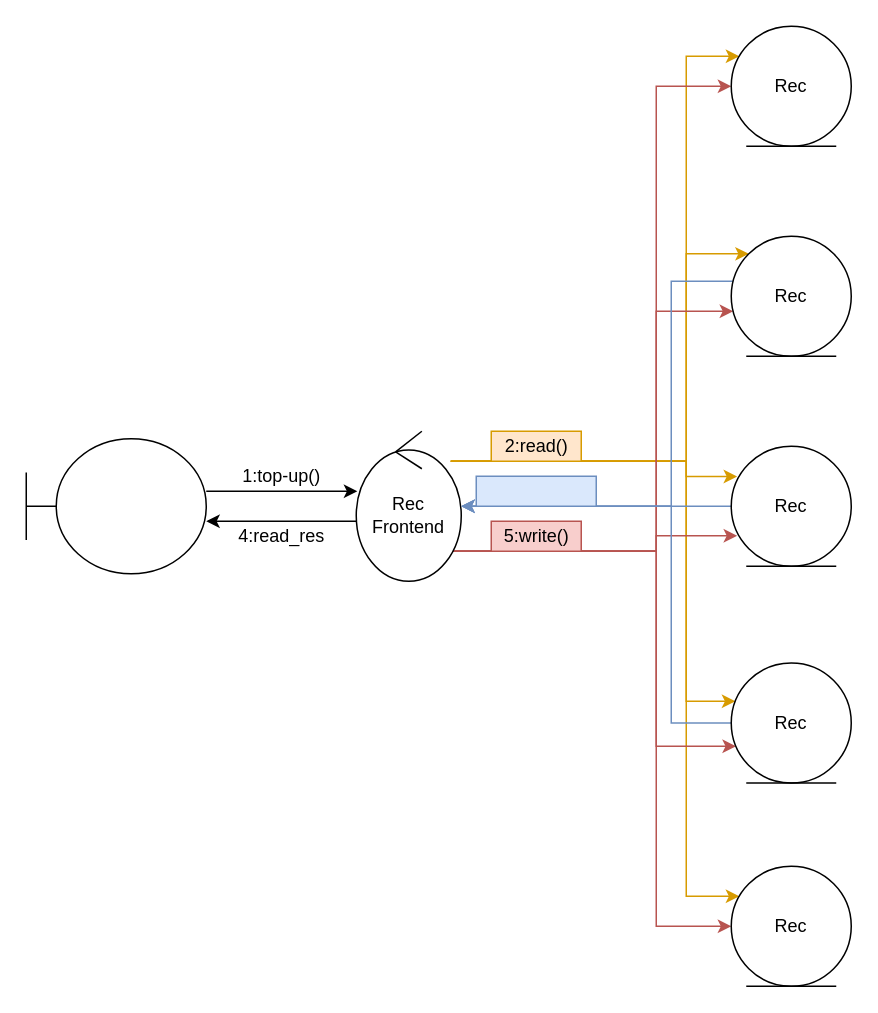
The diagram is 878 pixels wide and 1013 high, and some of its shapes have lost their labels. The centre of each missing label's shape, as x and y in pixels:
3:read_res: point 535,490
HubService Implementation: point 115,505
